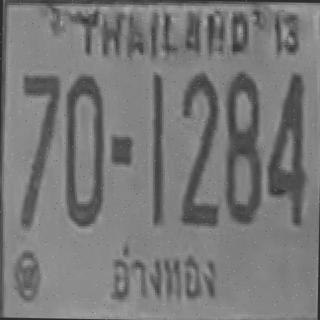N00: (62, 74, 105, 224)
N01: (150, 74, 164, 196)
N02: (179, 72, 219, 197), (180, 103, 220, 224)
N04: (265, 70, 306, 222), (266, 71, 306, 186)
N07: (20, 73, 59, 163)
N08: (223, 71, 262, 222)
P02: (105, 238, 223, 307)
